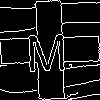M: (25, 25, 68, 72)
